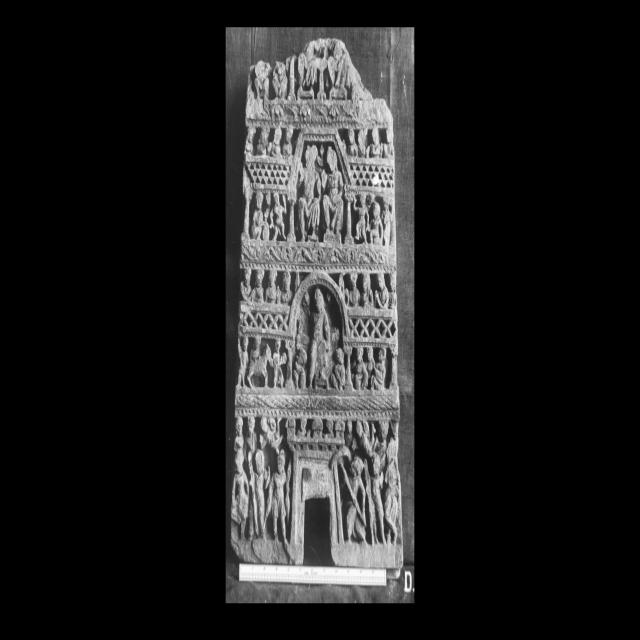buddha-sitting: (309, 287, 331, 389), (299, 144, 321, 242)
